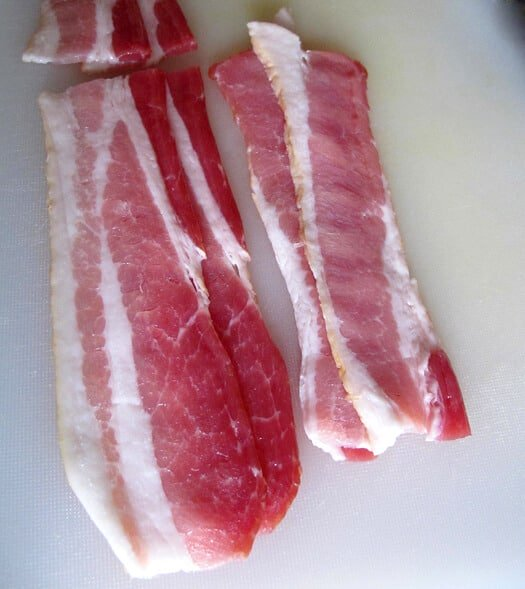bacon: (24, 71, 302, 555), (224, 31, 494, 469)
